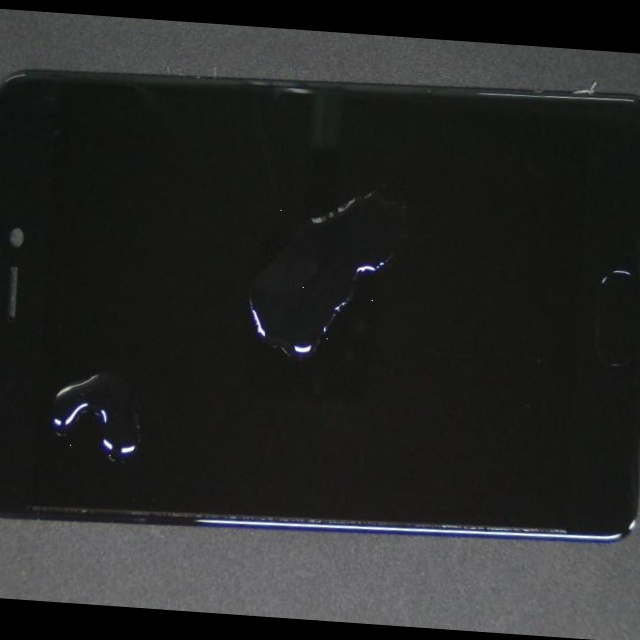oil: (121, 100, 440, 365), (33, 183, 185, 552)
